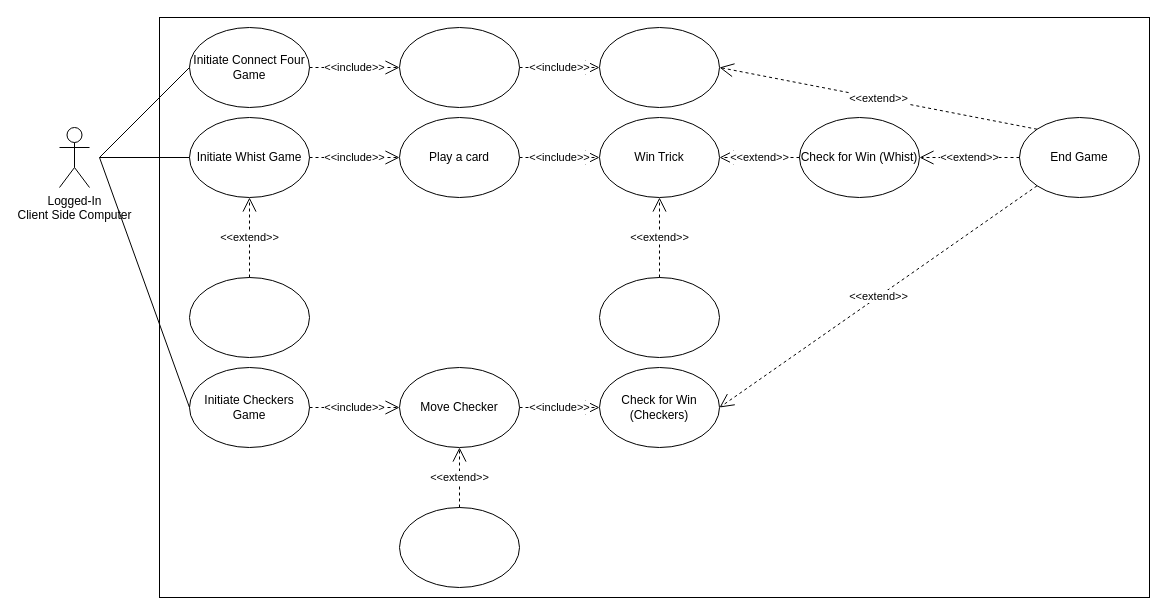
Some shapes in this 1167 by 615 pixel diagram are drawn without their labels. Here are the shapes that lost their labels. From the top down, the centre of each, then its label:
point 459,67: Drop Checker
point 659,67: Check for Win (Connect Four)
point 249,317: Deal Cards
point 659,317: Draw a Card
point 459,547: Promote to King
